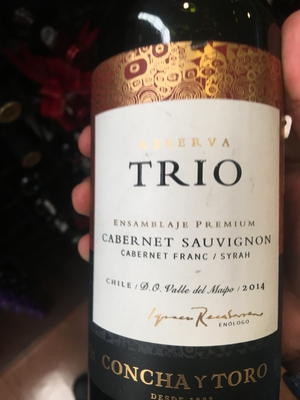trio cabernet sauvignon: (68, 5, 290, 400)
